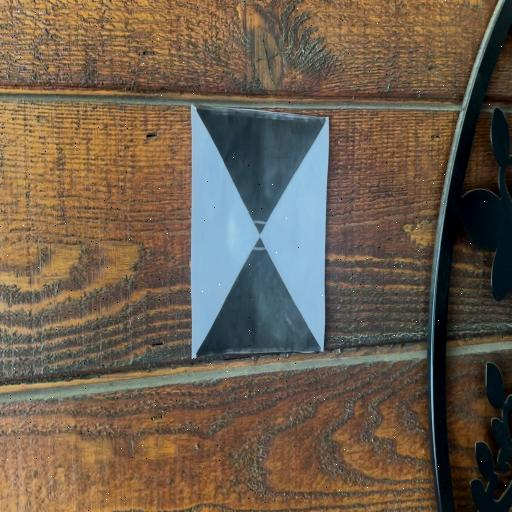target: (192, 104, 328, 358)
